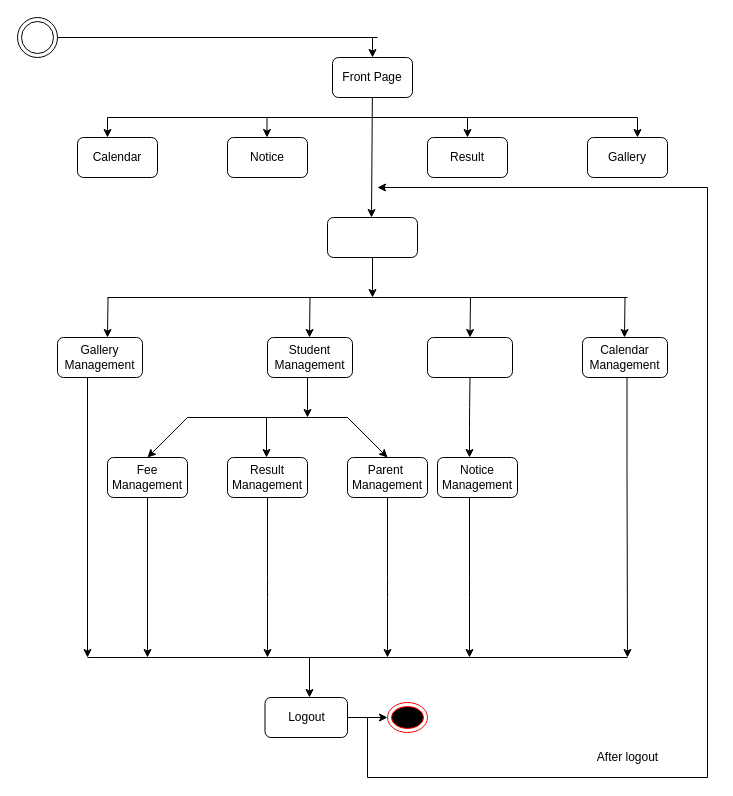
Some shapes in this 733 by 796 pixel diagram are drawn without their labels. The shapes that lost their labels are listed below. From the top down, each one's centre as x and y in pixels, then its label:
point 372,237: Login
point 469,357: Teacher Management
